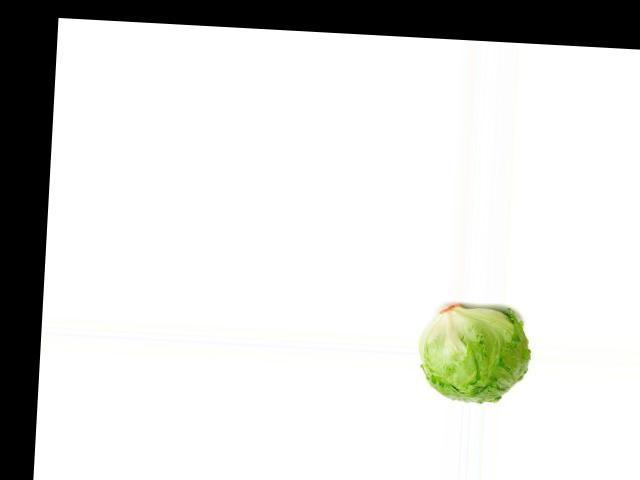lettuce: (422, 305, 532, 406)
